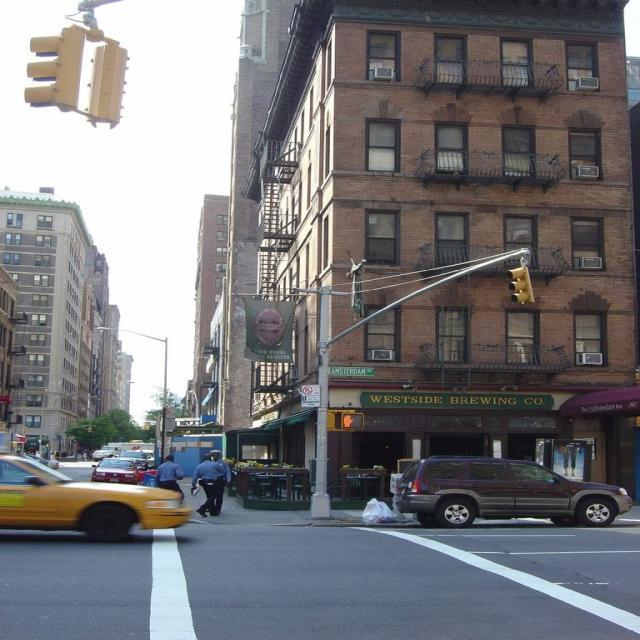off traffic light: (22, 27, 83, 111), (507, 266, 535, 308)
